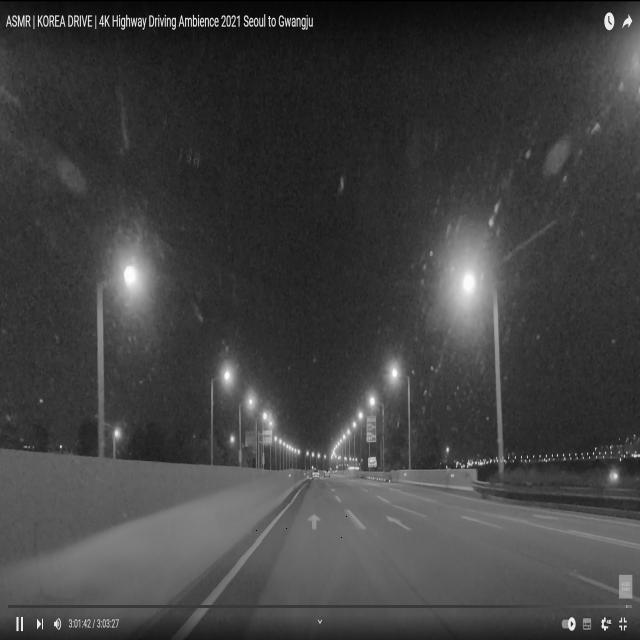forward: (252, 504, 373, 541)
